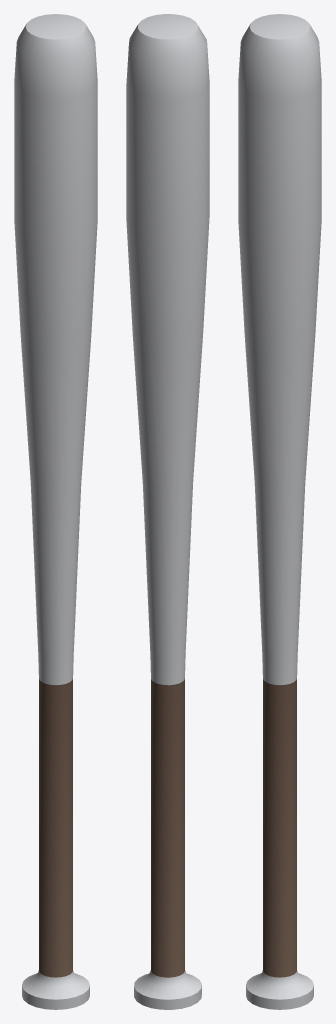
Rendered from bat.glb.
The picture shows the model from 3 angles, left to right: view 1: azimuth 90°, elevation 25°; view 2: azimuth 150°, elevation 25°; view 3: azimuth 270°, elevation 25°; orthographic projection.
Parts seen in each view (by area): view 1: OUT; view 2: OUT; view 3: OUT.
Part boxes in pixels (x1,y1,x2,y2): OUT: (14,14,97,1009); OUT: (126,14,209,1009); OUT: (238,14,321,1009).
Bounding box in the file's own units: 0.066 × 0.85 × 0.066.
